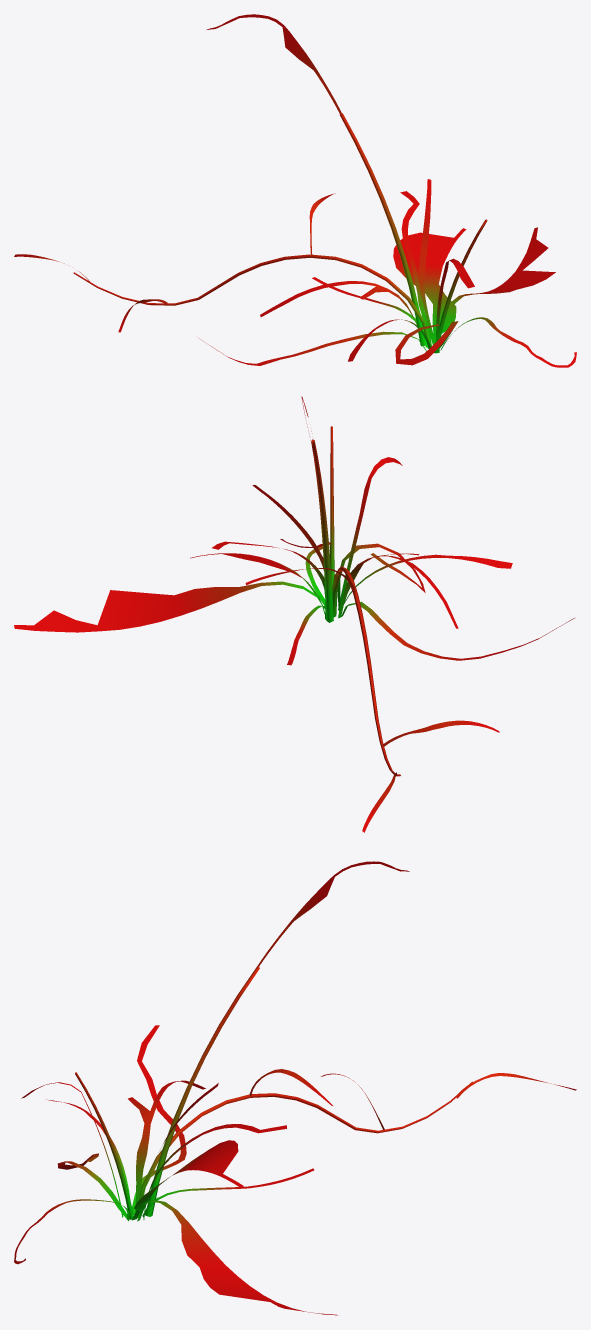
The model's file is skljc_Var6_LOD0.fbx.
3 views of the same model, one above another, from view 1: azimuth 30°, elevation 25°; view 2: azimuth 150°, elevation 25°; view 3: azimuth 270°, elevation 25° (orthographic). The views are drawn at different scales.
Parts seen in each view (by area): view 1: _b924_Var6_LOD0; view 2: _b924_Var6_LOD0; view 3: _b924_Var6_LOD0.
Boxes of the visible parts, box(x1,y1,x2,y2) form: _b924_Var6_LOD0: box(14, 14, 576, 367); _b924_Var6_LOD0: box(14, 396, 575, 832); _b924_Var6_LOD0: box(14, 861, 576, 1315).
Size of the model in its own units: 70.96 by 45.09 by 71.98.
